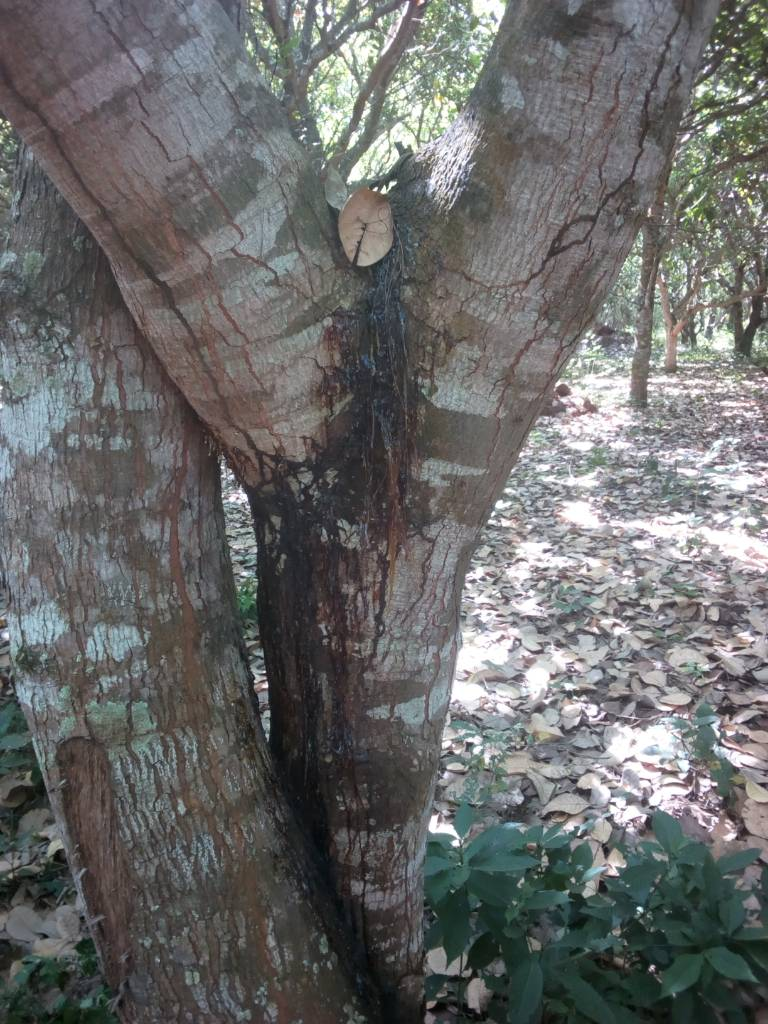Gommose: (260, 505, 407, 1017), (332, 263, 405, 594)
